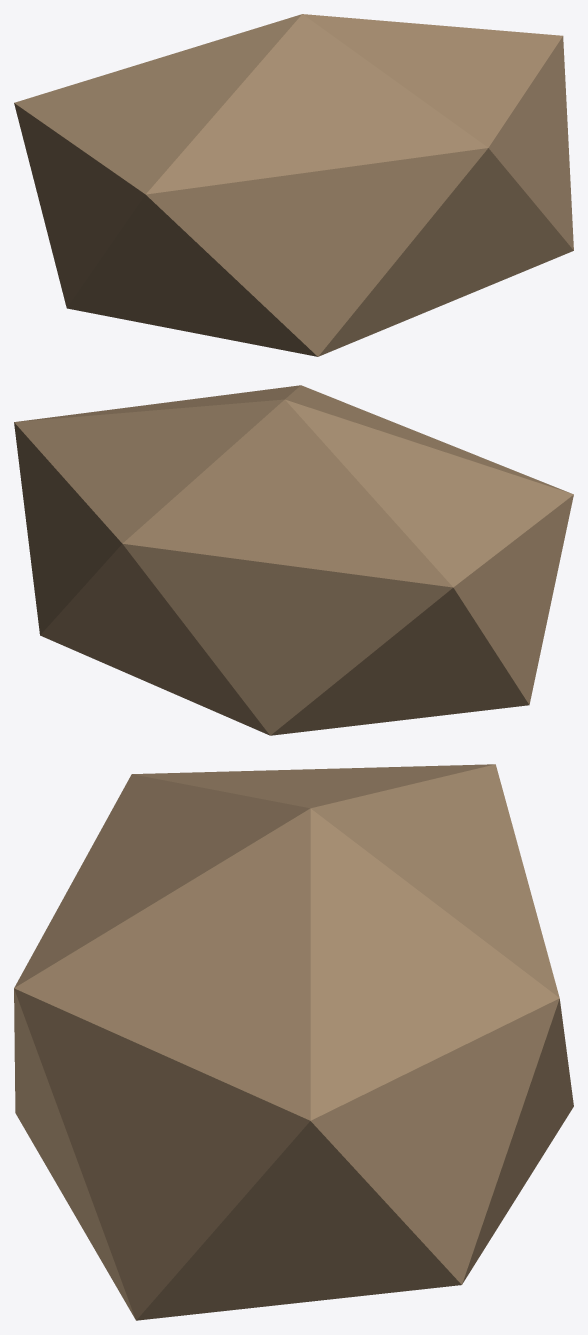
File: item_027_roasted_roots_s.glb
The picture shows the model from 3 angles, top to bottom: view 1: azimuth 30°, elevation 25°; view 2: azimuth 150°, elevation 25°; view 3: azimuth 270°, elevation 25°; orthographic projection. The views are drawn at different scales.
Parts seen in each view (by area): view 1: item_027_roasted_roots_s; view 2: item_027_roasted_roots_s; view 3: item_027_roasted_roots_s.
Part boxes in pixels (left/top/right/bottom): item_027_roasted_roots_s: left=14, top=14, right=573, bottom=356; item_027_roasted_roots_s: left=14, top=385, right=573, bottom=735; item_027_roasted_roots_s: left=14, top=764, right=573, bottom=1320.
Size of the model in its own units: 0.3139 by 0.1897 by 0.2087.
